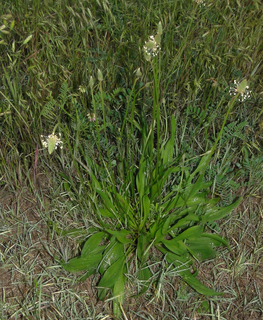buckhorn plantain: (63, 41, 241, 277)
